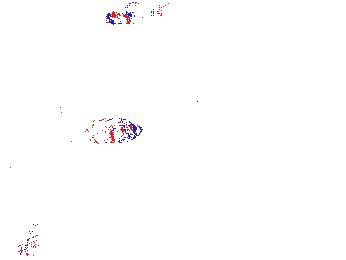X-ray fish: (71, 115, 144, 148)
red belly glassfish: (104, 1, 161, 26)
